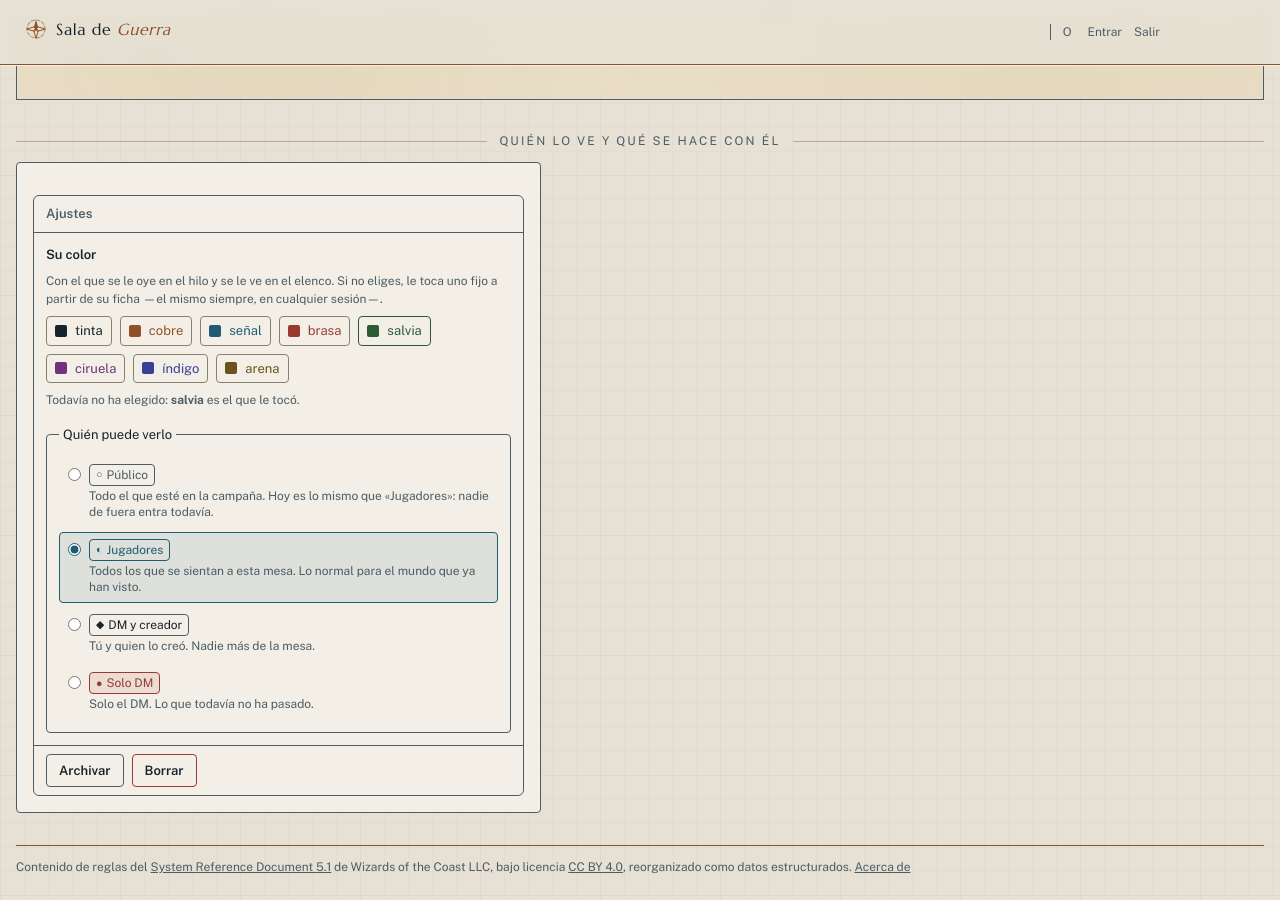
it: CharacterDetailPage — un solo camino de edición › borrar sigue detrás de un botón: el primer clic solo pide confirmación
(page scrolled)
Click the button "Borrar" at (164, 770), box [132,754,197,787]
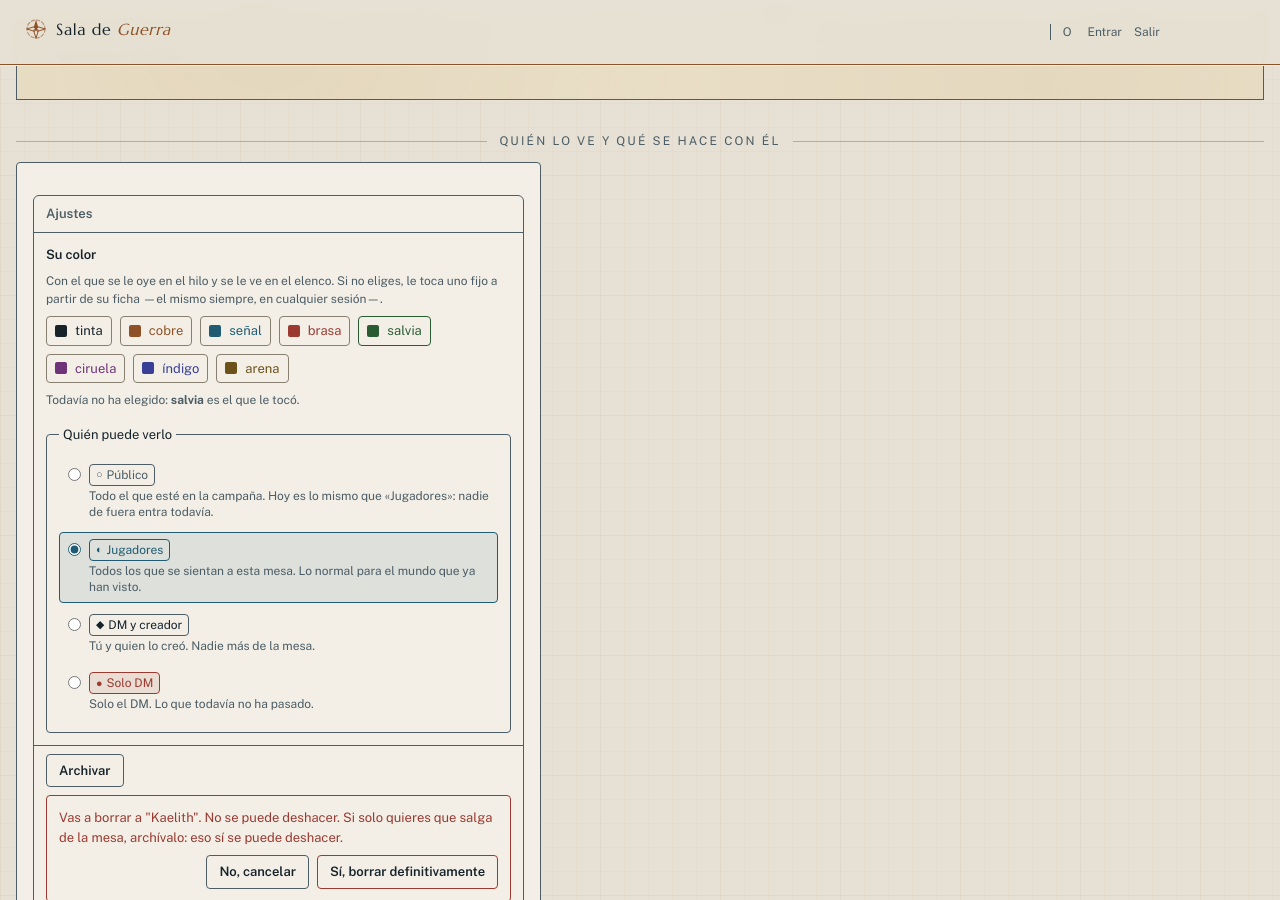
Result: the text "Vas a borrar a \"Kaelith\". No se puede deshacer." is shown at [59,810,492,844]
